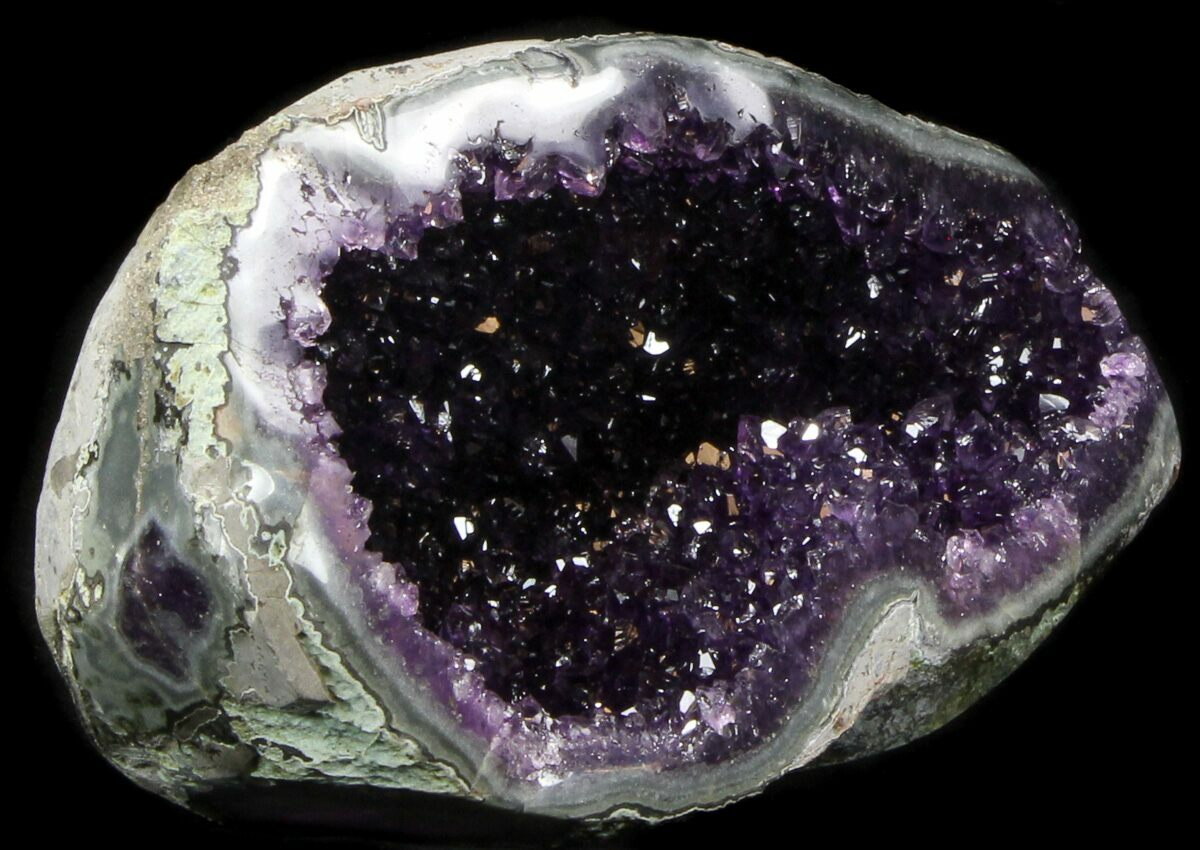Amethyst: (48, 35, 1187, 826)
